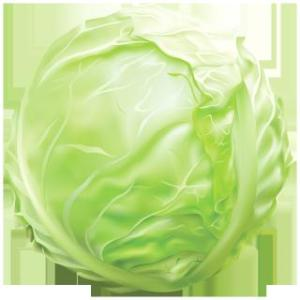cabbage: (5, 2, 296, 296)
